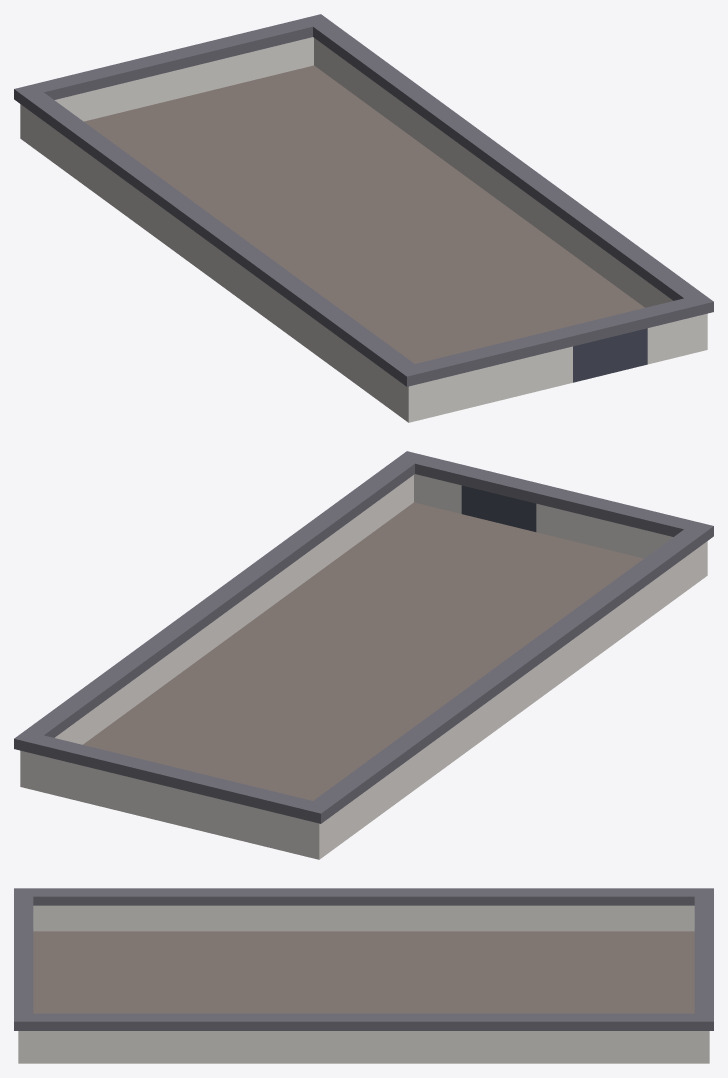
The model's file is SM_Roof_NarrowFlatStrip_White_364_01.gltf.
The picture shows the model from 3 angles, top to bottom: view 1: azimuth 30°, elevation 25°; view 2: azimuth 150°, elevation 25°; view 3: azimuth 270°, elevation 25°; orthographic projection. The views are drawn at different scales.
Parts seen in each view (by area): view 1: SM_Roof_NarrowFlatStrip_White_364_01; view 2: SM_Roof_NarrowFlatStrip_White_364_01; view 3: SM_Roof_NarrowFlatStrip_White_364_01.
Boxes of the visible parts, x1=… form: SM_Roof_NarrowFlatStrip_White_364_01: x1=14, y1=14, x2=713, y2=422; SM_Roof_NarrowFlatStrip_White_364_01: x1=14, y1=451, x2=713, y2=859; SM_Roof_NarrowFlatStrip_White_364_01: x1=14, y1=888, x2=713, y2=1063.
Size of the model in its own units: 3.74 by 0.57 by 8.29.
Materials: 1 (1 with a texture image).
